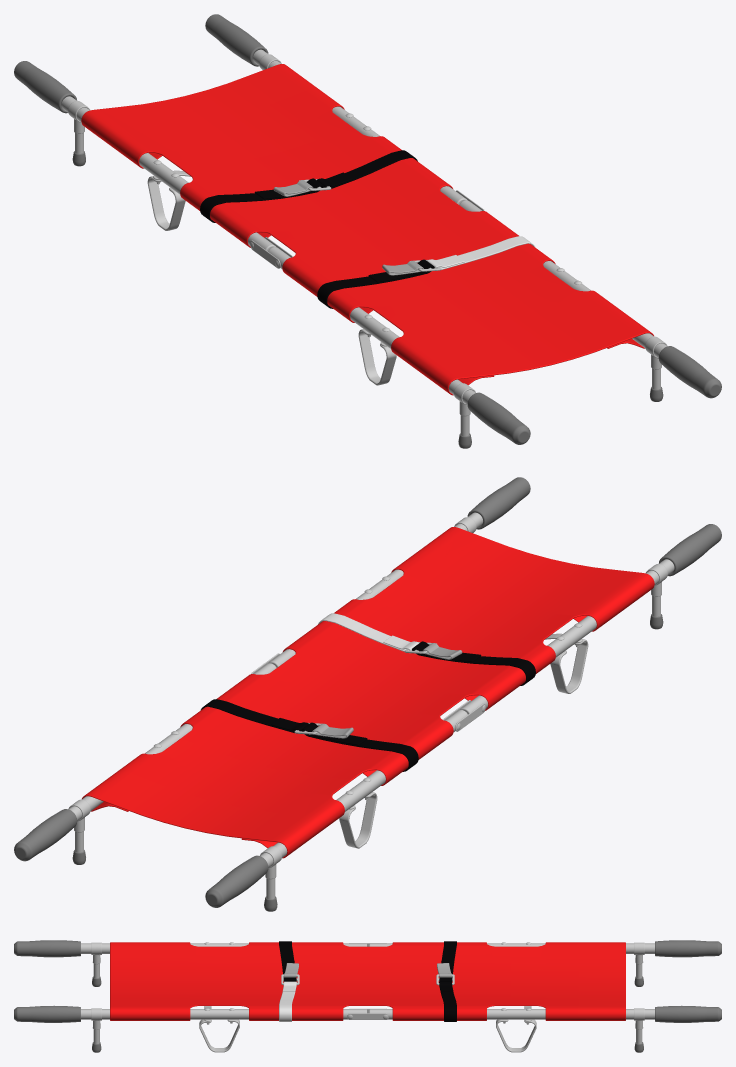
Rendered from camilla.fbx.
3 views of the same model, one above another, from view 1: azimuth 30°, elevation 25°; view 2: azimuth 150°, elevation 25°; view 3: azimuth 270°, elevation 25° (orthographic). The views are drawn at different scales.
Visible parts, largest first — view 1: bed_mesh, handle_003_mesh, handle_004_mesh, handle_002_mesh, handle_001_mesh, frame_001_mesh, frame_004_mesh, belt_003_mesh, belt_001_mesh, belt_004_mesh, belt_002_mesh, big_feet_004_low_mesh (+3 smaller); view 2: bed_mesh, handle_002_mesh, handle_001_mesh, handle_003_mesh, handle_004_mesh, frame_004_mesh, frame_001_mesh, belt_001_mesh, belt_003_mesh, belt_002_mesh, belt_004_mesh, big_feet_001_low_mesh (+3 smaller); view 3: bed_mesh, handle_001_mesh, handle_004_mesh, handle_002_mesh, handle_003_mesh, frame_002_mesh, frame_003_mesh, belt_002_mesh, belt_004_mesh, frame_001_mesh, frame_004_mesh, belt_001_mesh (+8 smaller).
Part boxes in pixels (left/top/right/bottom): bed_mesh: left=81, top=64, right=653, bottom=395; handle_003_mesh: left=658, top=346, right=721, bottom=398; handle_004_mesh: left=467, top=392, right=530, bottom=444; handle_002_mesh: left=205, top=14, right=268, bottom=66; handle_001_mesh: left=14, top=61, right=77, bottom=113; frame_001_mesh: left=61, top=96, right=275, bottom=251; frame_004_mesh: left=268, top=247, right=475, bottom=404; belt_003_mesh: left=317, top=259, right=434, bottom=308; belt_001_mesh: left=200, top=178, right=323, bottom=222; belt_004_mesh: left=427, top=236, right=534, bottom=269; belt_002_mesh: left=317, top=150, right=417, bottom=188; big_feet_004_low_mesh: left=358, top=329, right=396, bottom=385; bed_mesh: left=82, top=527, right=654, bottom=858; handle_002_mesh: left=14, top=809, right=77, bottom=861; handle_001_mesh: left=205, top=855, right=268, bottom=907; handle_003_mesh: left=467, top=477, right=530, bottom=529; handle_004_mesh: left=658, top=524, right=721, bottom=576; frame_004_mesh: left=460, top=559, right=674, bottom=714; frame_001_mesh: left=260, top=710, right=467, bottom=867; belt_001_mesh: left=301, top=722, right=418, bottom=771; belt_003_mesh: left=412, top=641, right=535, bottom=685; belt_002_mesh: left=201, top=699, right=308, bottom=732; belt_004_mesh: left=318, top=613, right=418, bottom=651; big_feet_001_low_mesh: left=339, top=792, right=377, bottom=848; bed_mesh: left=110, top=942, right=625, bottom=1020; handle_001_mesh: left=655, top=940, right=721, bottom=957; handle_004_mesh: left=14, top=940, right=80, bottom=957; handle_002_mesh: left=655, top=1005, right=721, bottom=1022; handle_003_mesh: left=14, top=1005, right=80, bottom=1022; frame_002_mesh: left=369, top=1009, right=654, bottom=1019; frame_003_mesh: left=81, top=1009, right=366, bottom=1019; belt_002_mesh: left=439, top=981, right=456, bottom=1021; belt_004_mesh: left=279, top=981, right=296, bottom=1021; frame_001_mesh: left=369, top=943, right=654, bottom=953; frame_004_mesh: left=81, top=943, right=366, bottom=953; belt_001_mesh: left=439, top=941, right=456, bottom=981.
Size of the model in its own units: 65.1 by 18.59 by 267.
Materials: 8 (4 with a texture image).
